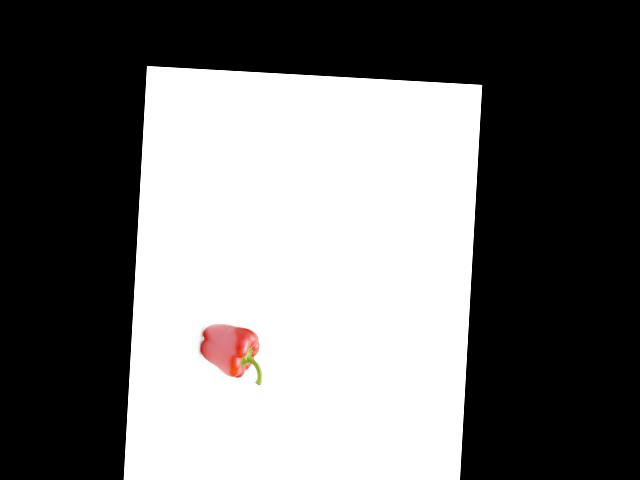bell_pepper: (193, 319, 268, 387)
